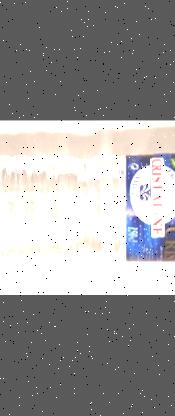Plastic Bottle: (0, 151, 175, 275)
